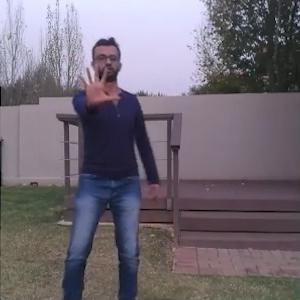follow_hand: (77, 61, 120, 106)
